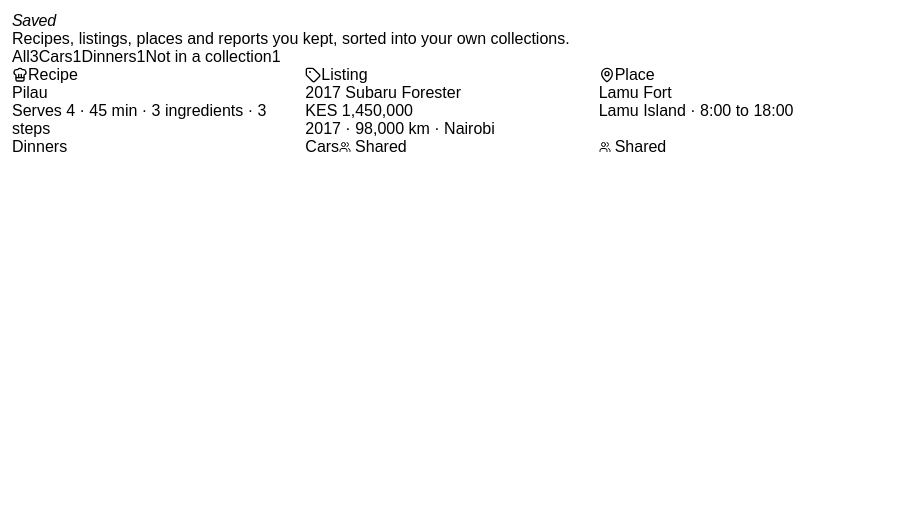
Test: one card › renames it
Click the button "Pilau" at {"x": 159, "y": 111}, box [12,66,305,156]
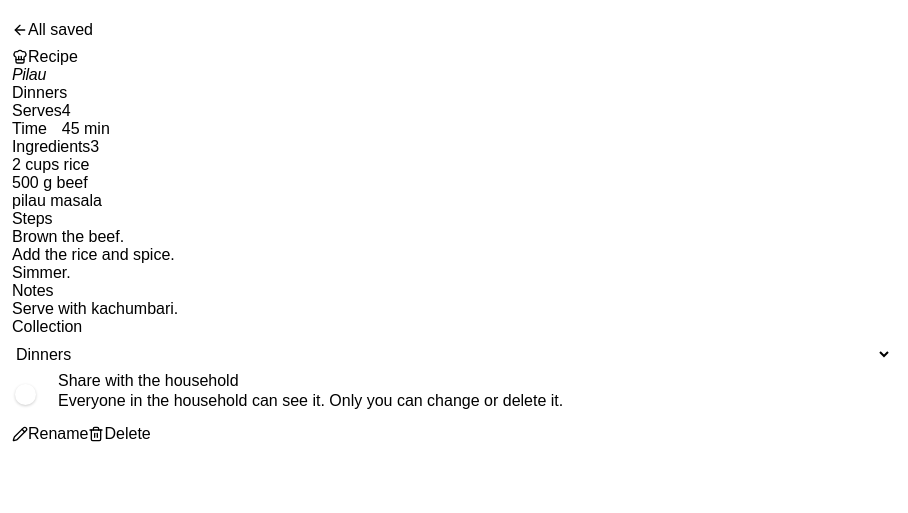
Click the button "Rename" at {"x": 50, "y": 434}, box [12,416,88,452]
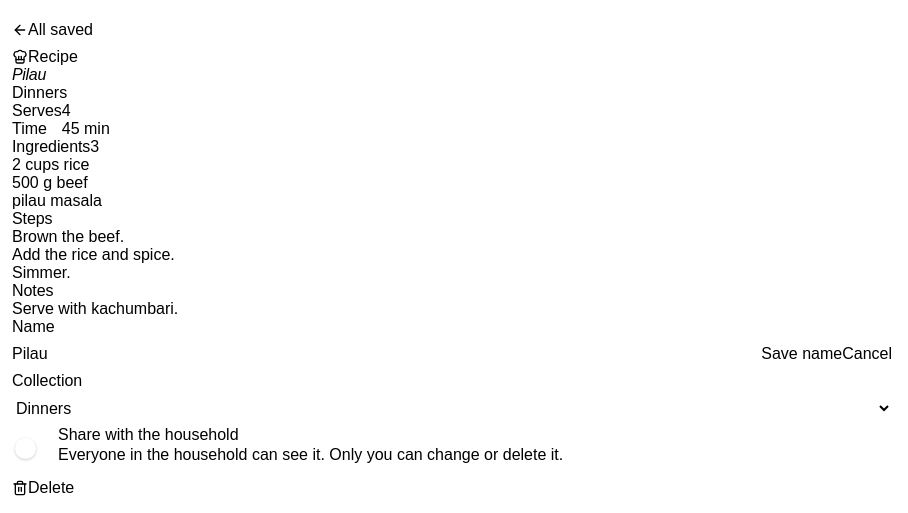
Replace the text in the field labelled "Name" with "Beef pilau" at {"x": 387, "y": 354}, box [12,336,761,372]
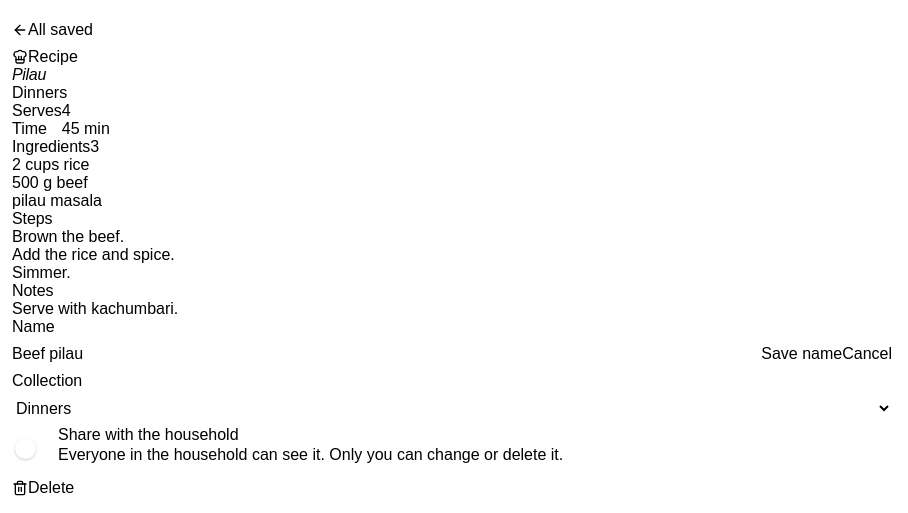
Click the button "Save name" at {"x": 802, "y": 354}, box [761,336,842,372]
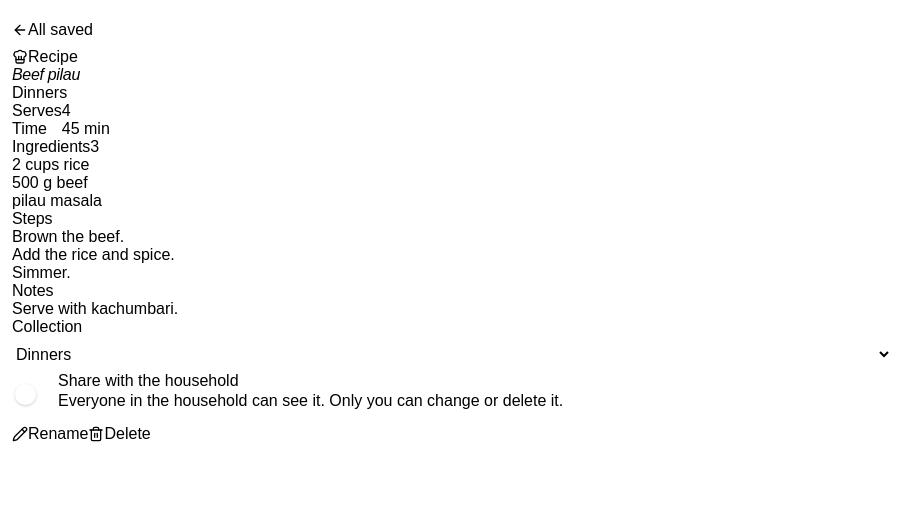
Expected: the heading "Beef pilau" is shown, [12,66,80,83]
